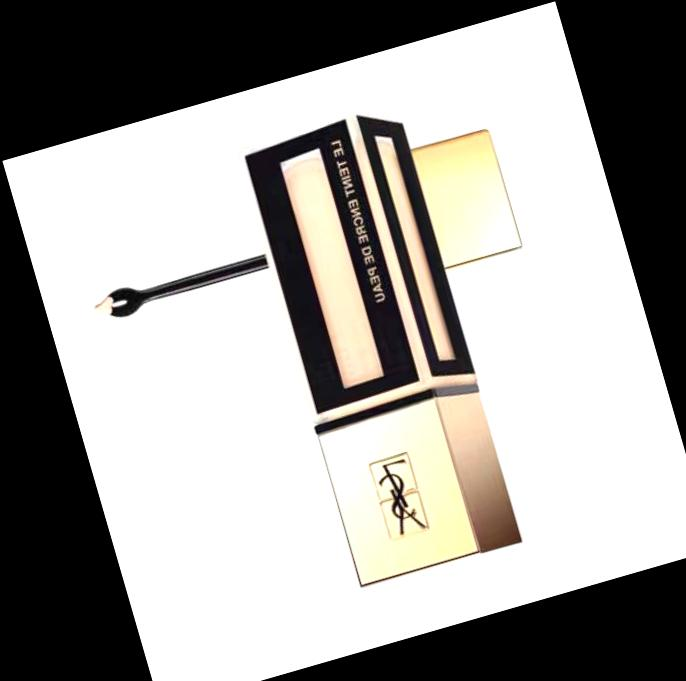cosmetic: (234, 99, 527, 586)
